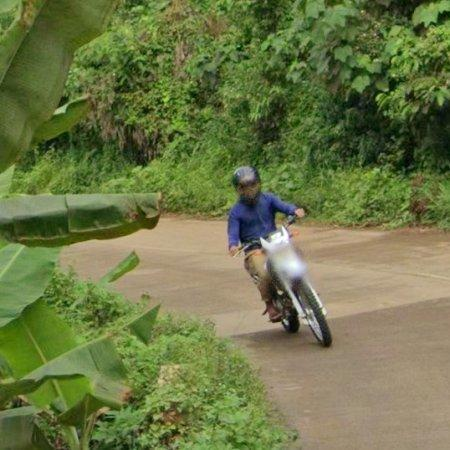motorcycles: (240, 216, 333, 347)
